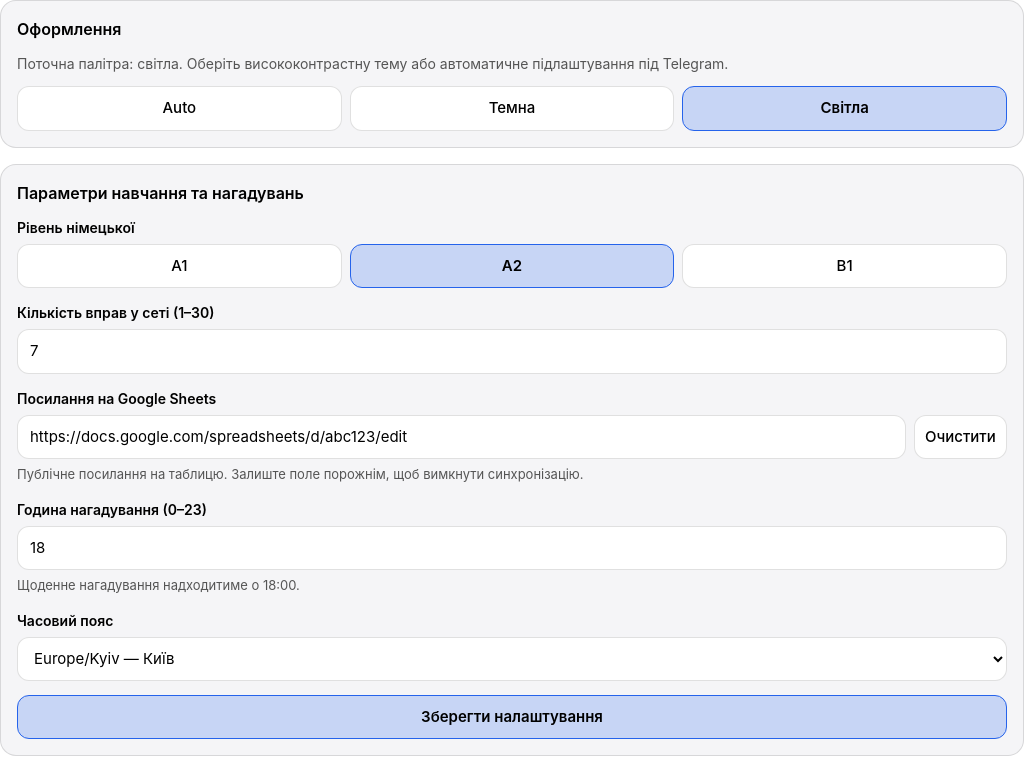
SettingsPage › validates exercises_per_set (1-30) and reminder_hour (0-23) client-side without losing user inputs
The image size is (1024, 765).
Replace the text in the number field labelled "Кількість вправ у сеті (1–30)" with "31": (512,351) [17,329,1007,374]
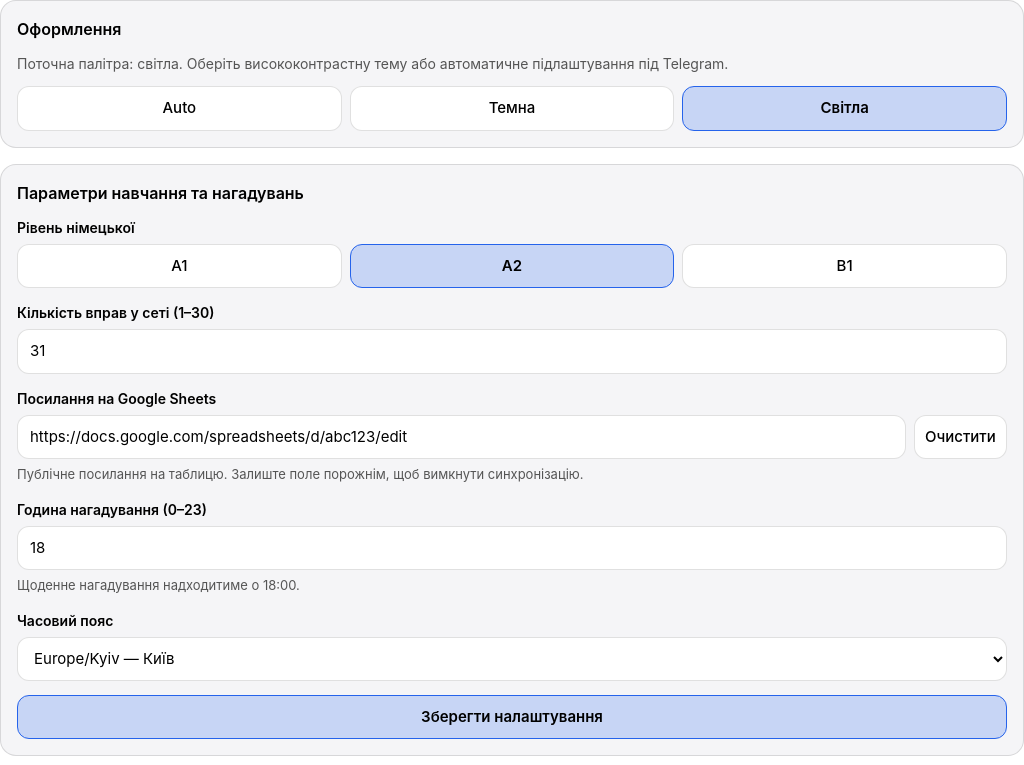
Click the button "Зберегти налаштування": (512,717) [17,694,1007,739]
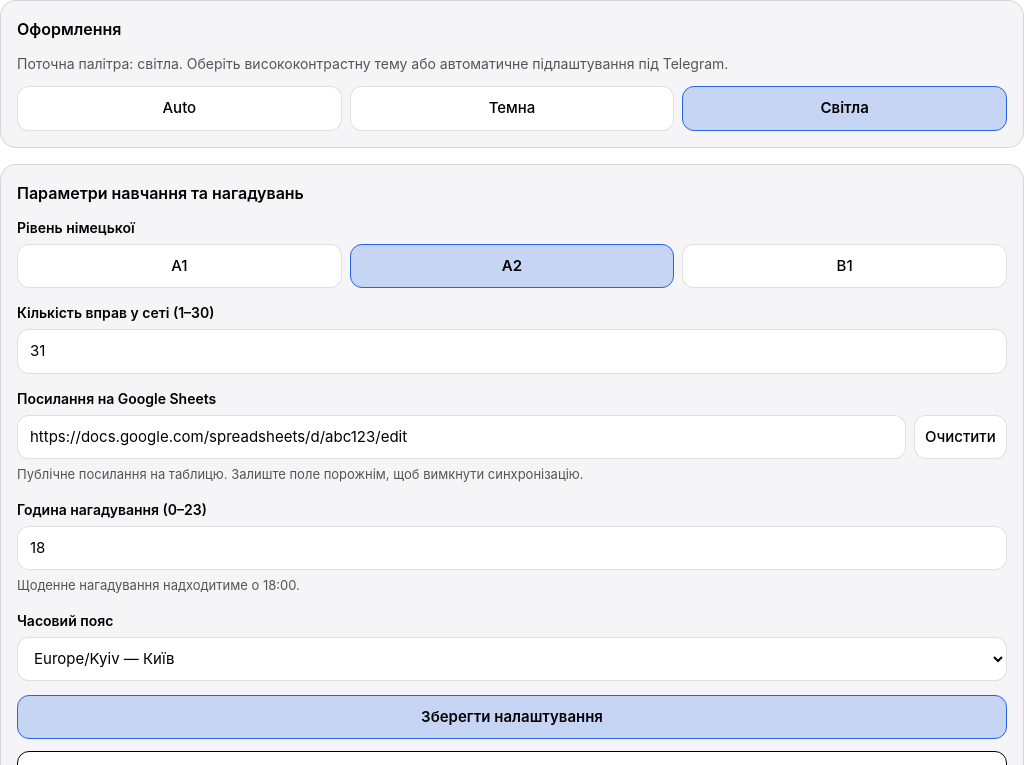
Replace the text in the number field labelled "Кількість вправ у сеті (1–30)" with "10": (512,351) [17,329,1007,374]
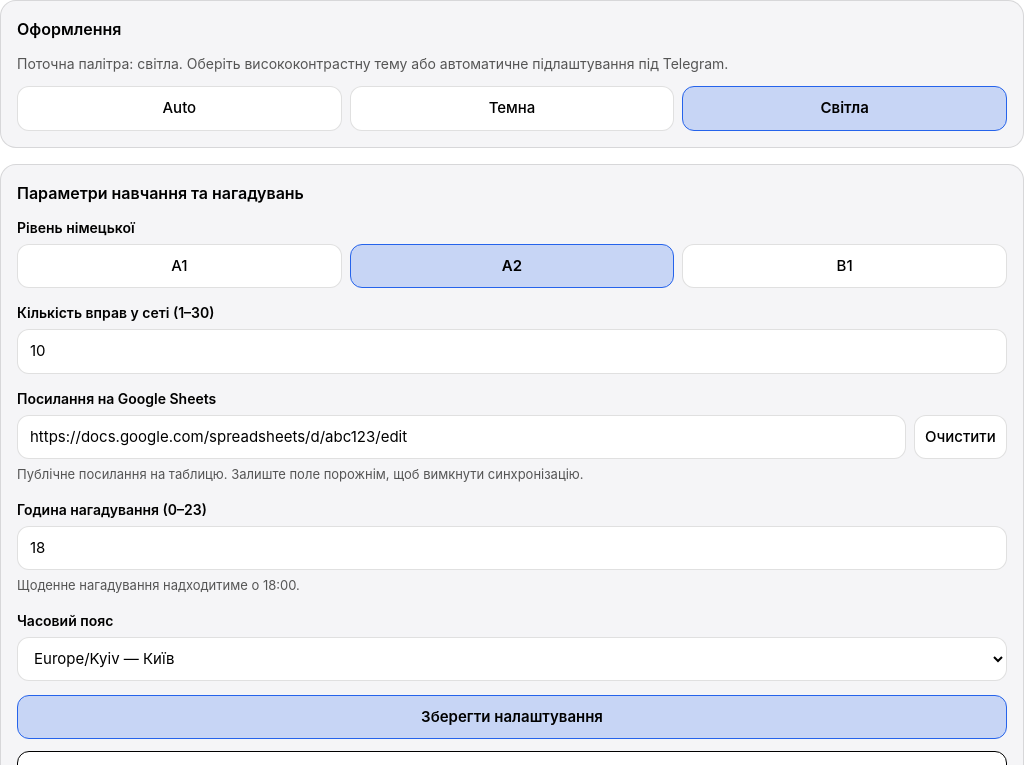
Replace the text in the number field labelled "Година нагадування (0–23)" with "24": (512,548) [17,526,1007,570]
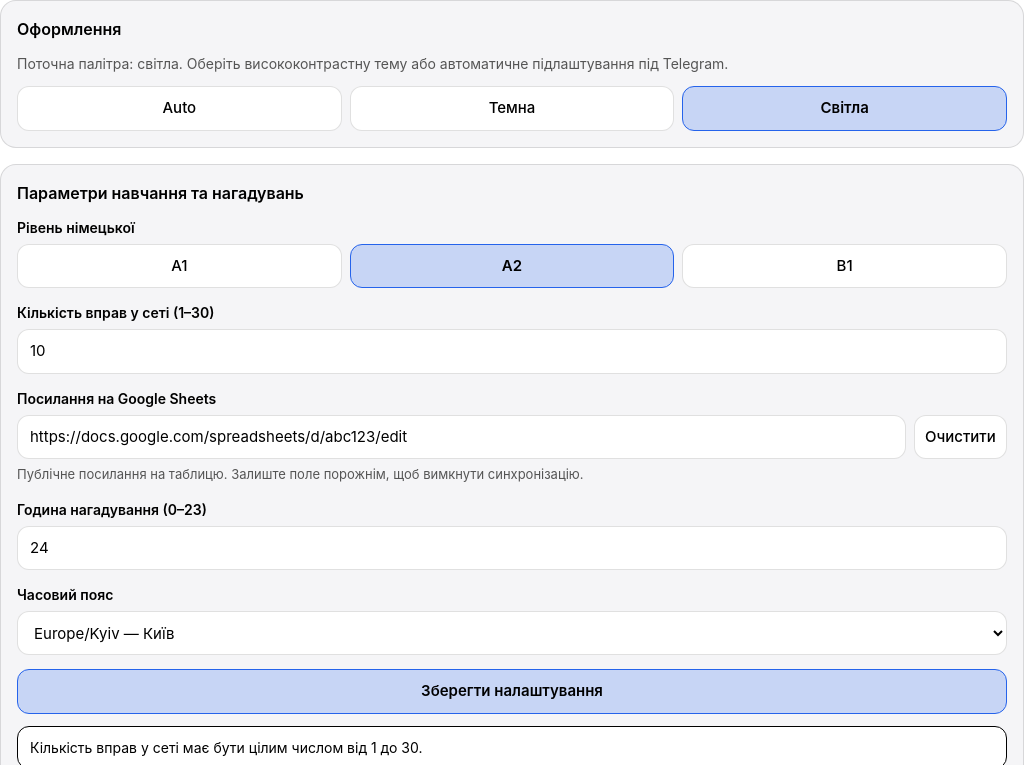
Click the button "Зберегти налаштування": (512,691) [17,669,1007,714]
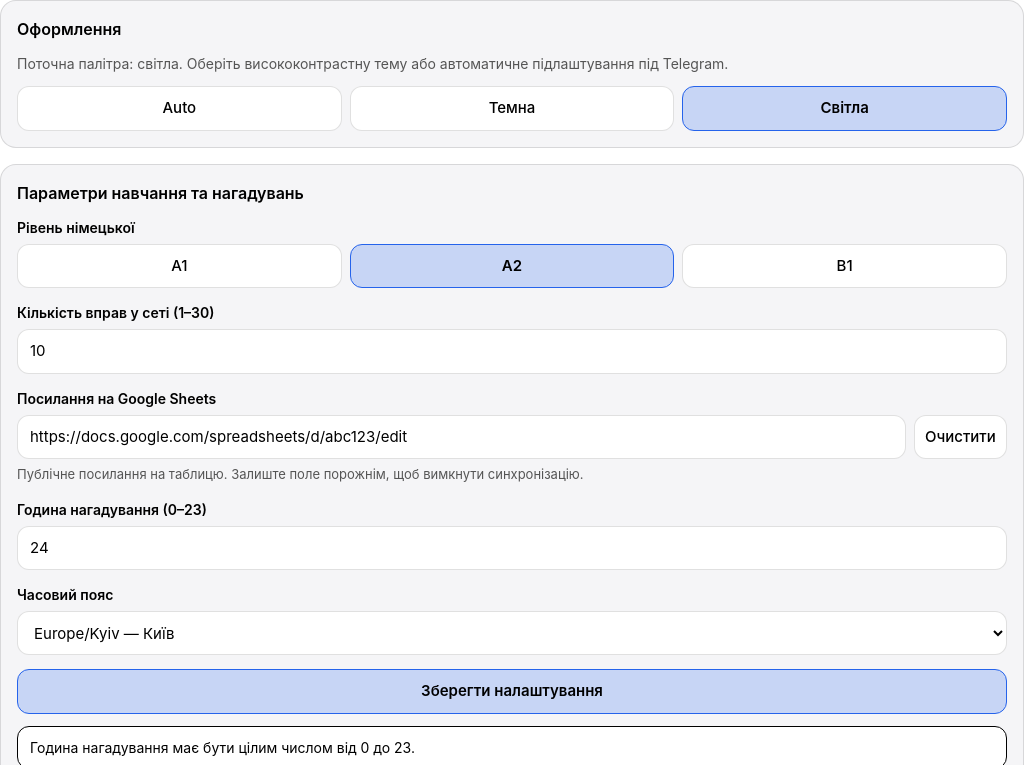
expect the message reads "Година нагадування має бути цілим числом від 0 до 23.": met, box [30,738,415,756]
